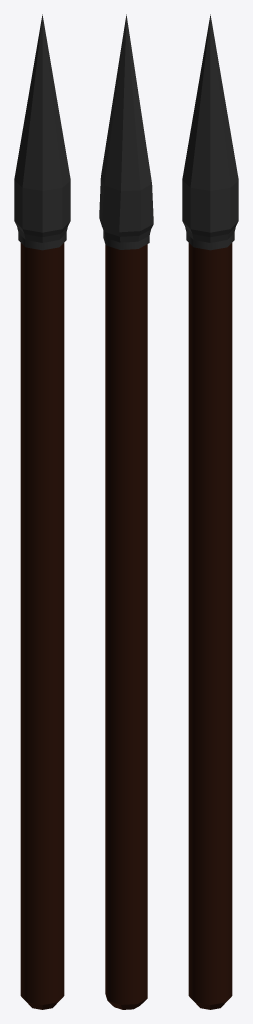
File: spearv2.FBX
3 renders of one model, left to right at view 1: azimuth 90°, elevation 25°; view 2: azimuth 210°, elevation 25°; view 3: azimuth 270°, elevation 25°, orthographic.
Visible parts, largest first — view 1: Cylinder001, Cylinder002; view 2: Cylinder001, Cylinder002; view 3: Cylinder001, Cylinder002.
Part boxes in pixels (x1,y1,x2,y2): Cylinder001: [20, 243, 64, 1009]; Cylinder002: [14, 14, 70, 250]; Cylinder001: [105, 244, 147, 1009]; Cylinder002: [99, 14, 153, 249]; Cylinder001: [188, 243, 232, 1009]; Cylinder002: [182, 14, 238, 250].
Size of the model in its own units: 10.29 by 199 by 10.29.
